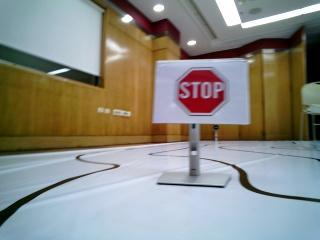stop: (161, 65, 242, 118)
